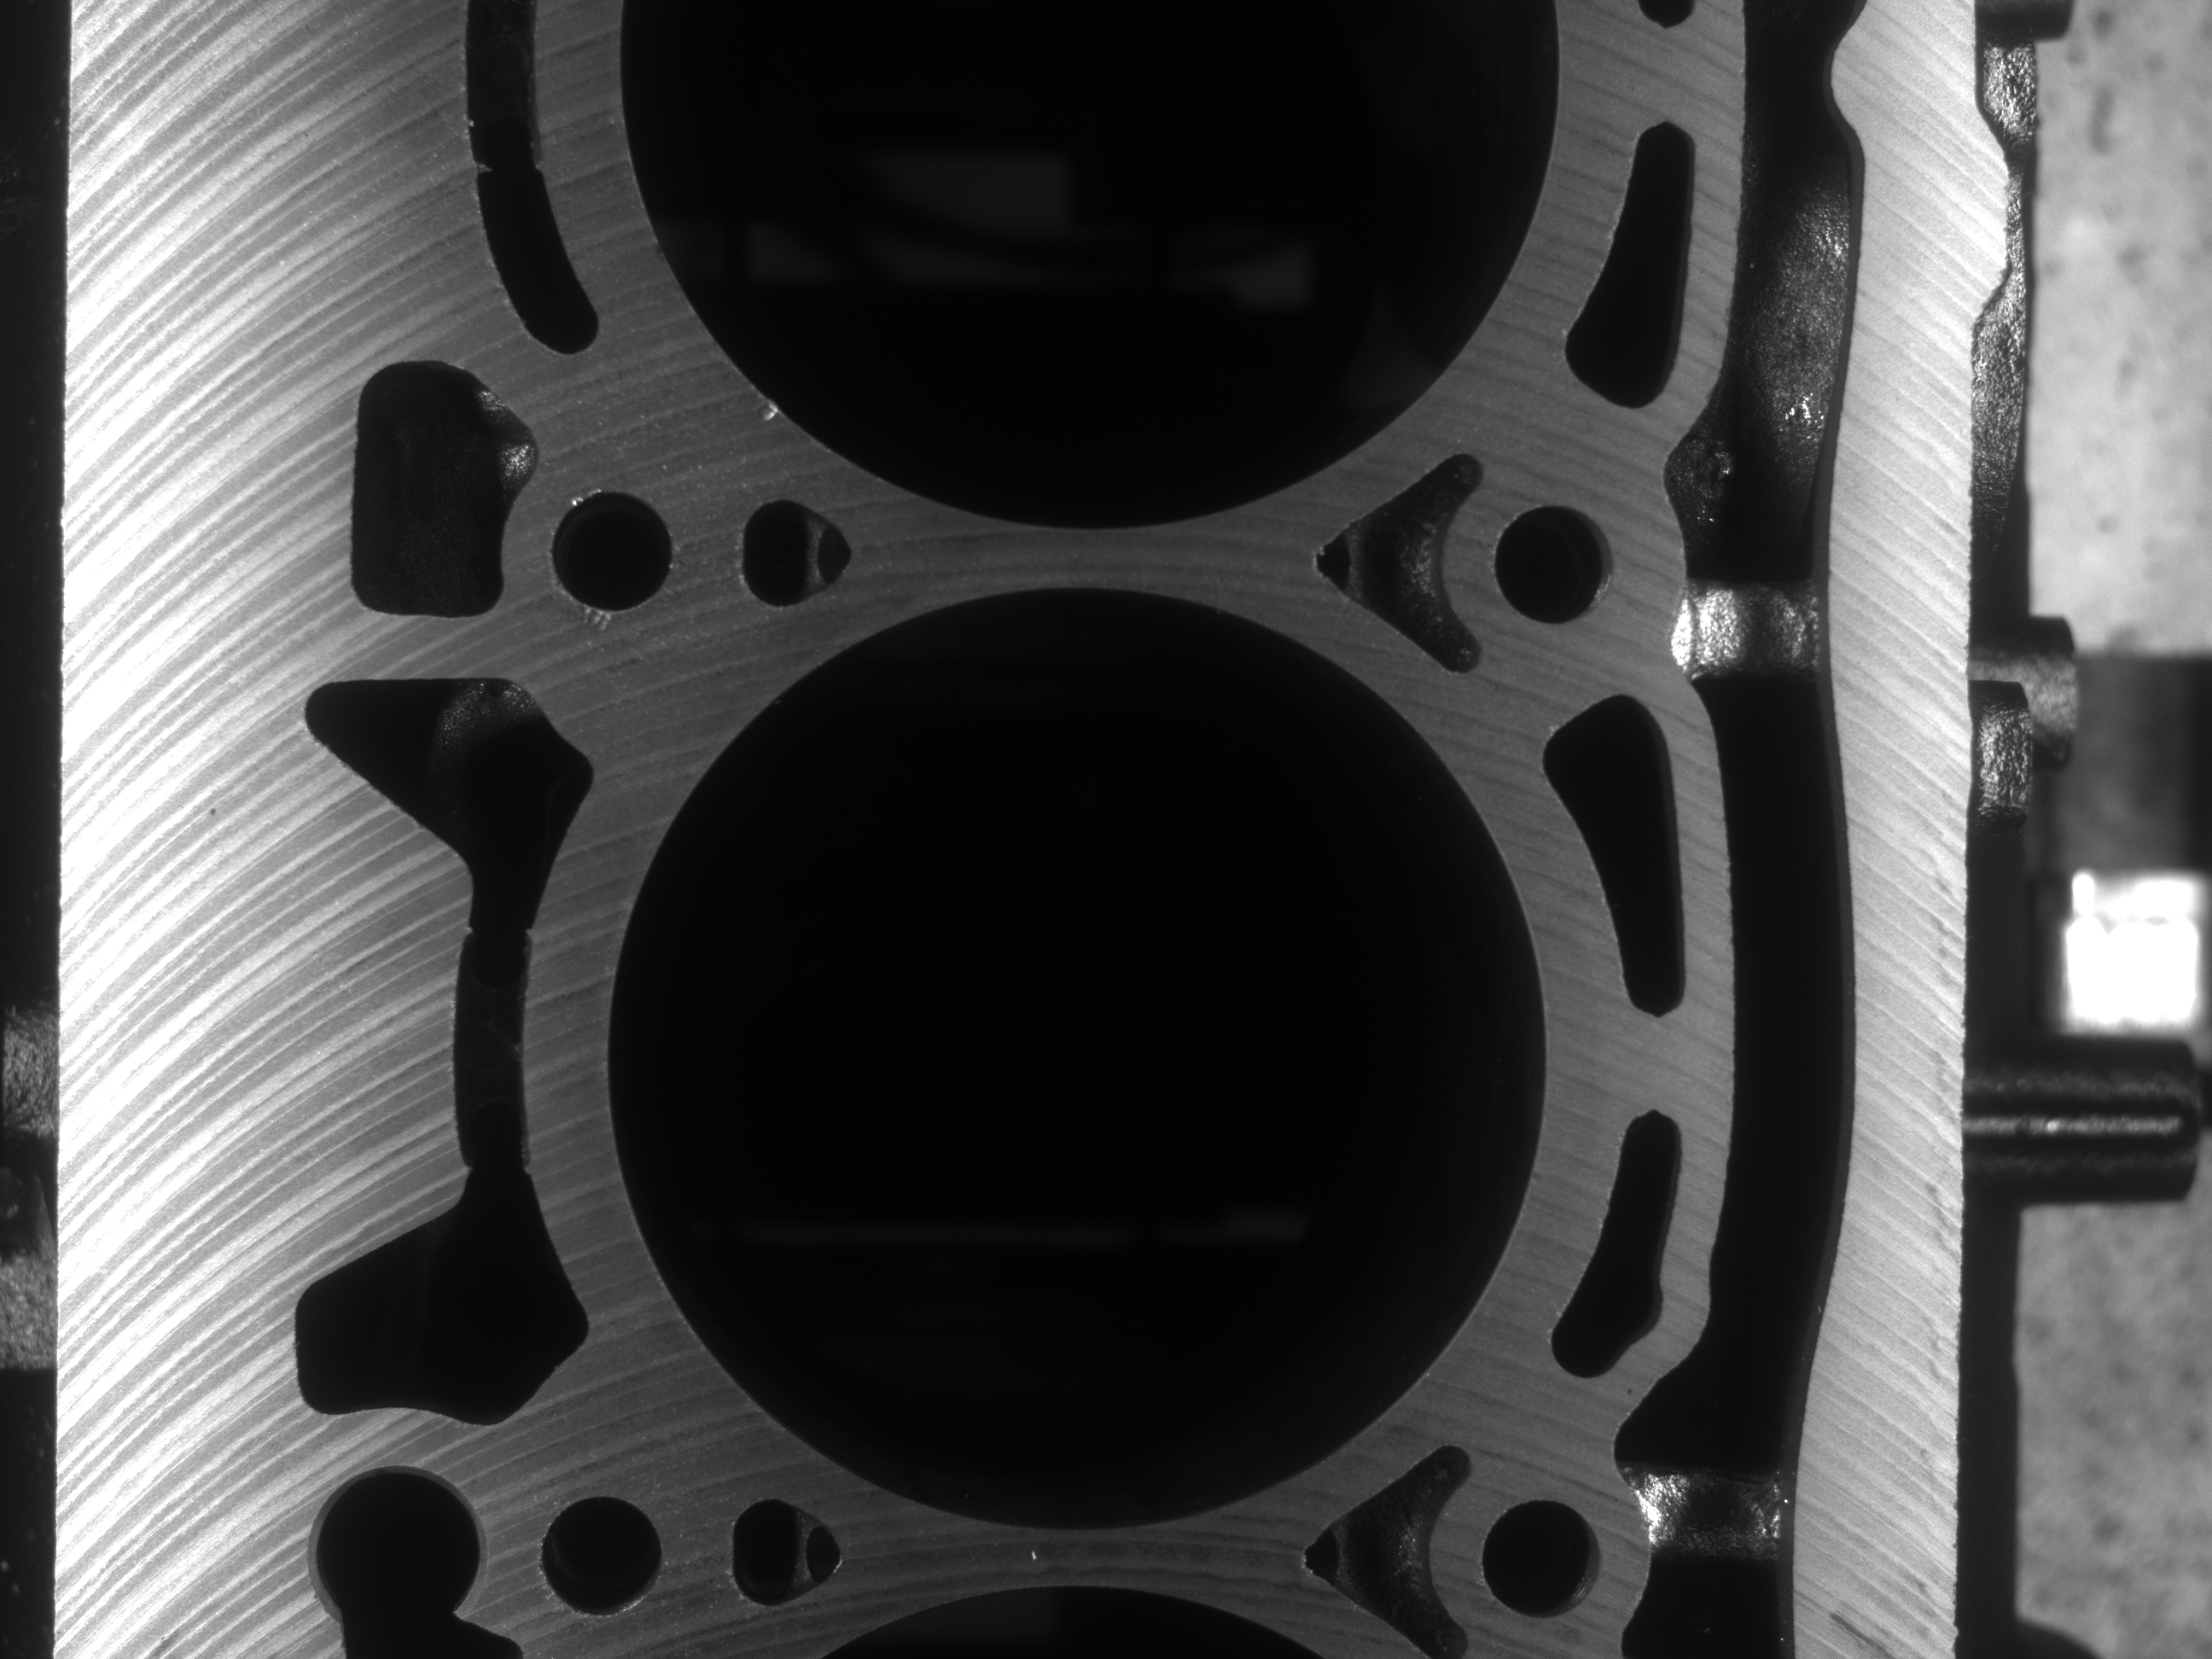shrinkage: (575, 603, 622, 641), (752, 390, 791, 432)
